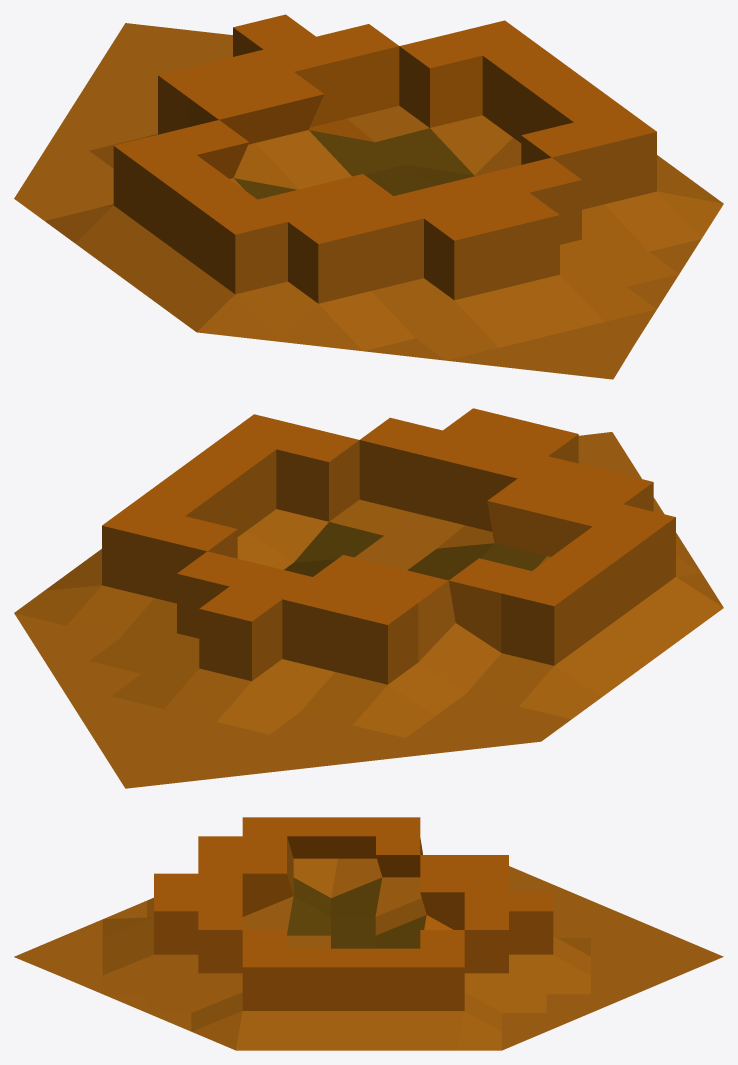
The model's file is Mine2.fbx.
3 views of the same model, one above another, from view 1: azimuth 30°, elevation 25°; view 2: azimuth 150°, elevation 25°; view 3: azimuth 270°, elevation 25° (orthographic). The views are drawn at different scales.
Parts seen in each view (by area): view 1: Plane; view 2: Plane; view 3: Plane.
Part boxes in pixels (x1=…): Plane: x1=14, y1=14, x2=723, y2=379; Plane: x1=14, y1=408, x2=723, y2=788; Plane: x1=14, y1=817, x2=723, y2=1050.
Bounding box in the file's own units: 1.25 × 0.1895 × 2.
